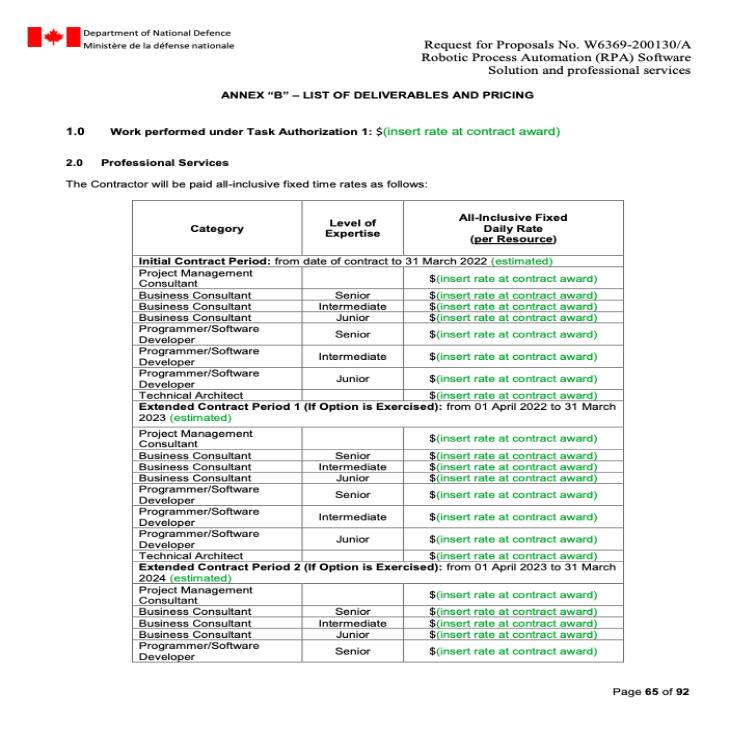tabulation: (125, 191, 634, 670)
